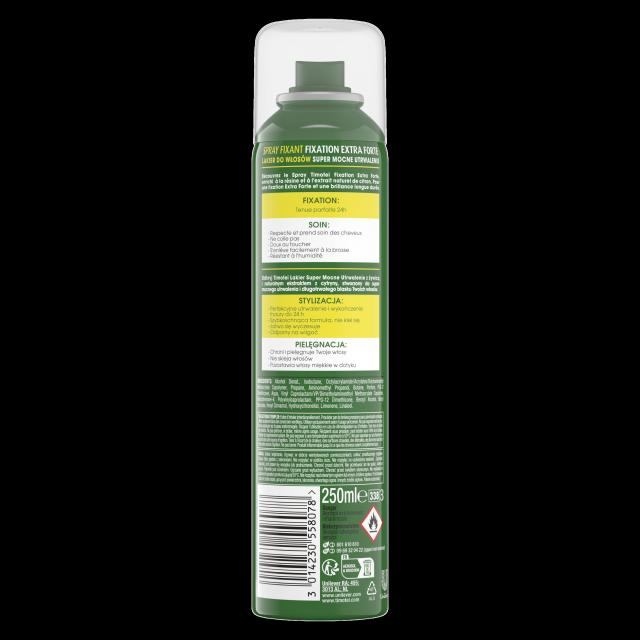GHS_Symbol_FLAME: (360, 503, 384, 544)
